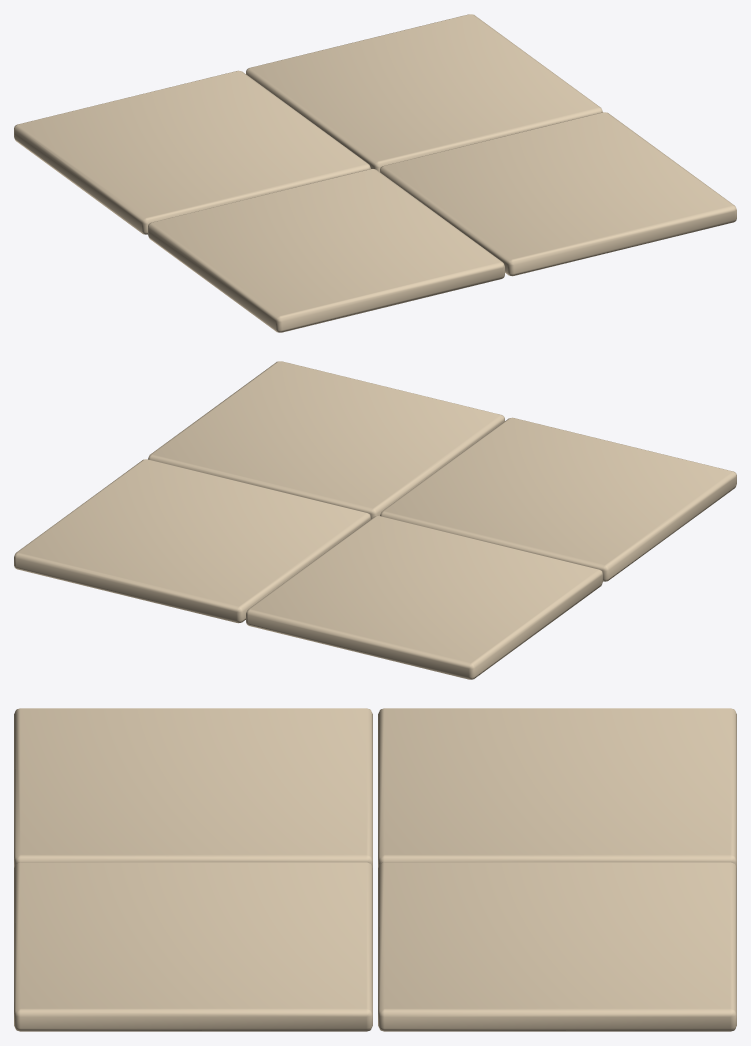
Rendered from Paving2m.fbx.
3 renders of one model, top to bottom at view 1: azimuth 30°, elevation 25°; view 2: azimuth 150°, elevation 25°; view 3: azimuth 270°, elevation 25°, orthographic. The views are drawn at different scales.
Visible parts, largest first — view 1: Paving2m_Paver; view 2: Paving2m_Paver; view 3: Paving2m_Paver.
Boxes of the visible parts, x1=… form: Paving2m_Paver: x1=14, y1=14, x2=736, y2=332; Paving2m_Paver: x1=14, y1=361, x2=736, y2=679; Paving2m_Paver: x1=14, y1=708, x2=736, y2=1031.
Bounding box in the file's own units: 1.99 × 0.07 × 1.99.
